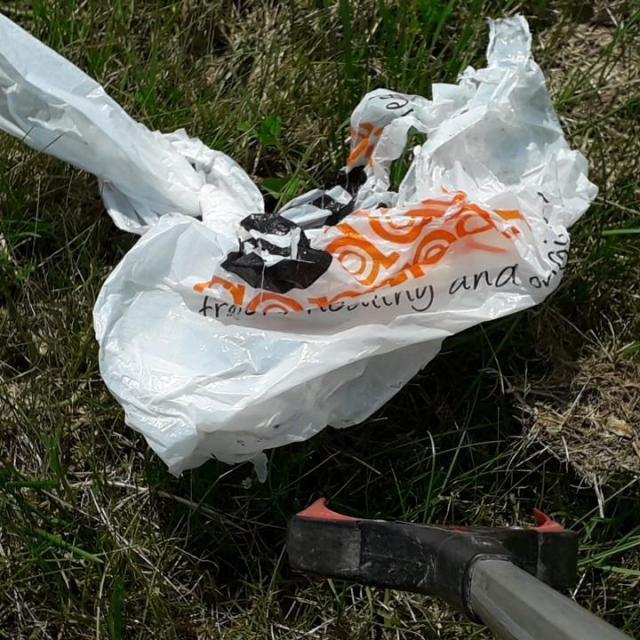Paper: (0, 12, 604, 486)
